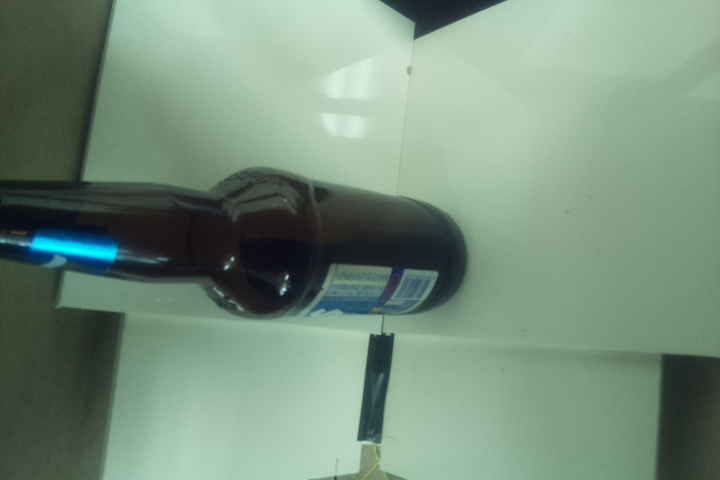makju: (1, 163, 471, 323)
